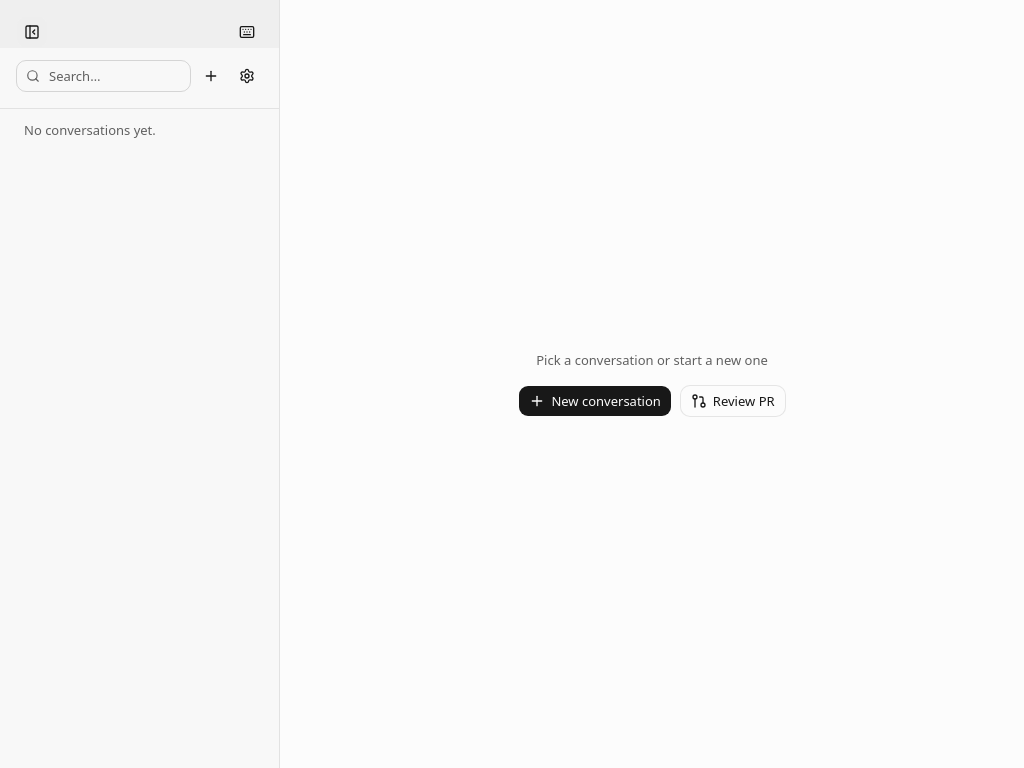
Sidebar › clears the search from its clear button
The width and height of the screenshot is (1024, 768).
Expected: the navigation bar "conversations" is shown, [0, 0, 279, 139]
Type "abc" into the search field at [104, 76], box [16, 60, 191, 92]
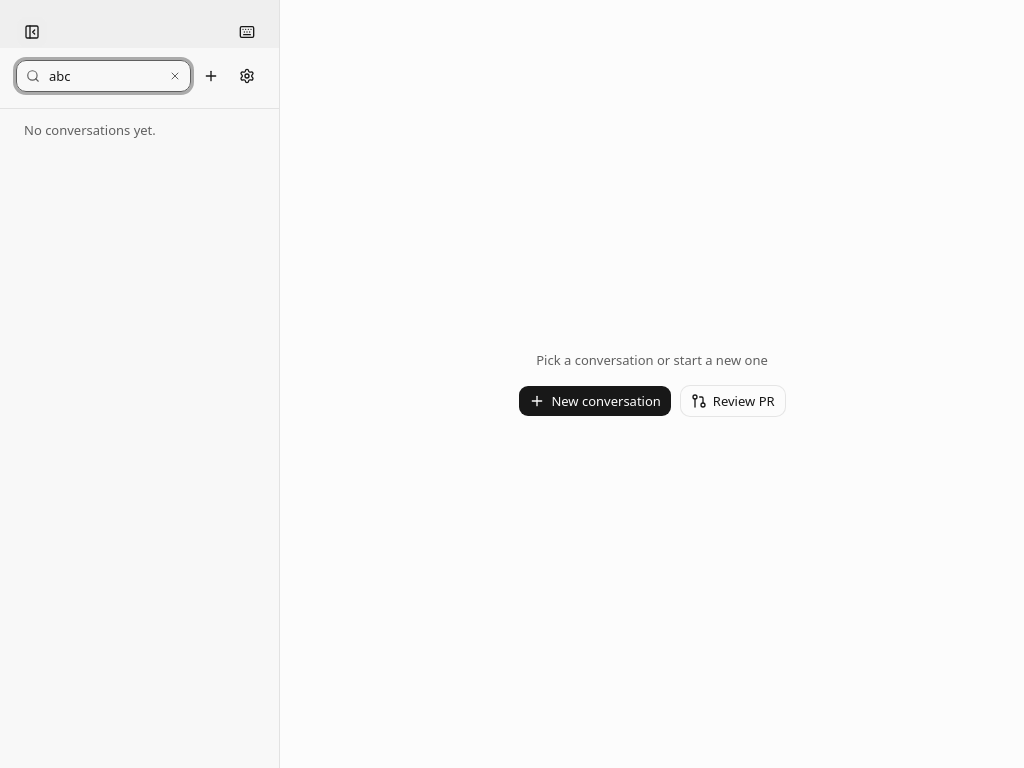
Click the button named "Clear search" at [175, 76], box [163, 64, 187, 88]
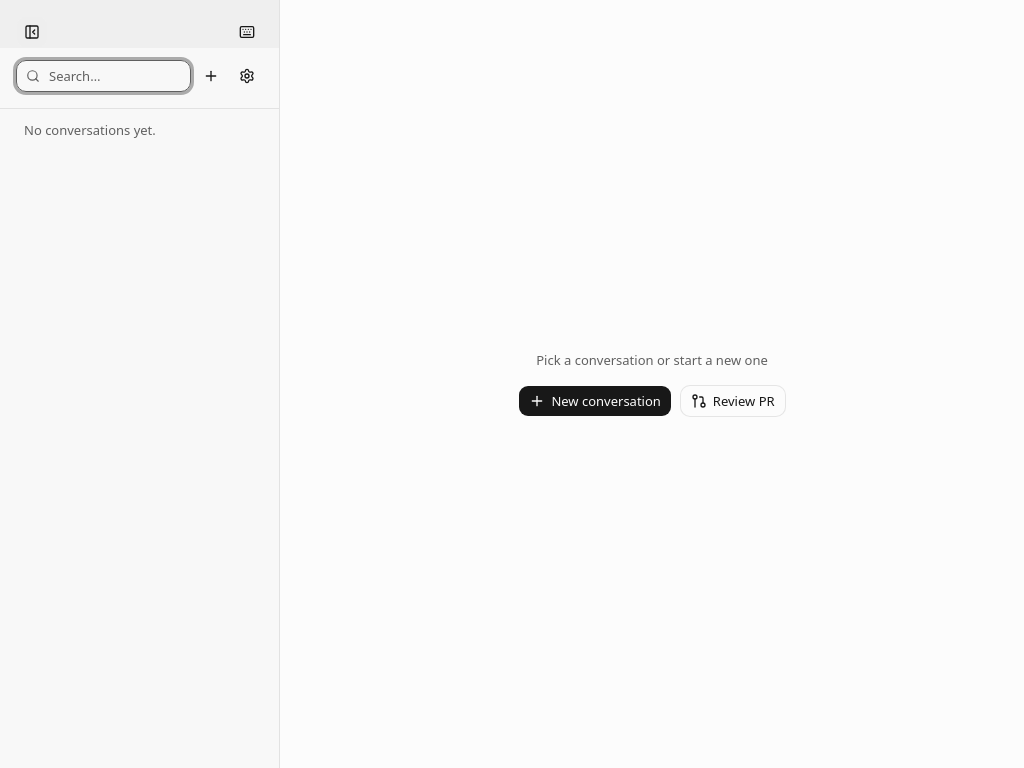
Result: the search field is empty at [16, 60, 191, 92]
